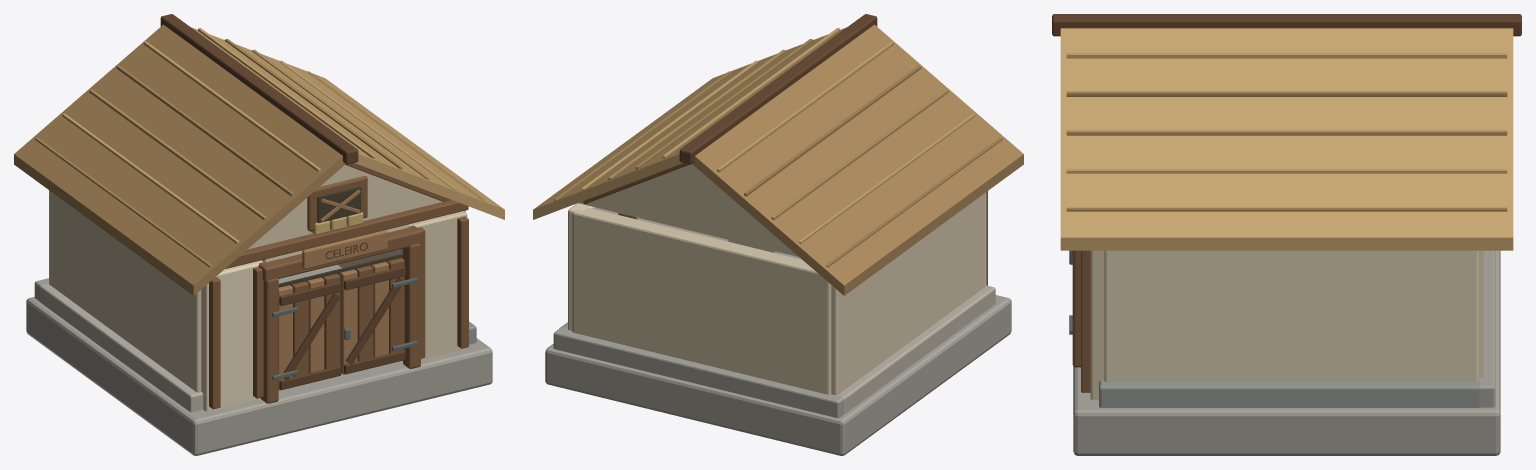
File: celeiro_medieval.glb
3 renders of one model, left to right at view 1: azimuth 30°, elevation 25°; view 2: azimuth 150°, elevation 25°; view 3: azimuth 270°, elevation 25°, orthographic. The views are drawn at different scales.
Parts seen in each view (by area): view 1: Celeiro | Palha do telhado 2, Celeiro | Reboco de cal envelhecido, Celeiro | Pedra da fundação 0, Celeiro | Vigas de carvalho, Celeiro | Palha do telhado 1, Celeiro | Madeira sombreada, Celeiro | Tábuas de carvalho, Celeiro | Reboco claro, Base lateral esquerda, Celeiro | Palha do telhado 0, Celeiro | Interior escuro, Celeiro | Ferro forjado (+1 smaller); view 2: Celeiro | Reboco de cal envelhecido, Celeiro | Palha do telhado 2, Celeiro | Pedra da fundação 0, Celeiro | Palha do telhado 1, Base lateral esquerda, Celeiro | Madeira sombreada, Celeiro | Palha do telhado 0, Celeiro | Reboco claro, Celeiro | Vigas de carvalho; view 3: Celeiro | Palha do telhado 1, Celeiro | Reboco claro, Celeiro | Pedra da fundação 0, Base lateral direita, Celeiro | Madeira sombreada, Celeiro | Palha do telhado 2, Celeiro | Palha do telhado 0, Celeiro | Reboco de cal envelhecido, Celeiro | Vigas de carvalho.
Boxes of the visible parts, x1,y1,x2,y2 form: Celeiro | Palha do telhado 2: (14,24,483,295); Celeiro | Reboco de cal envelhecido: (49,165,467,392); Celeiro | Pedra da fundação 0: (26,264,492,455); Celeiro | Vigas de carvalho: (209,163,468,409); Celeiro | Palha do telhado 1: (62,27,504,243); Celeiro | Madeira sombreada: (160,14,405,389); Celeiro | Tábuas de carvalho: (278,189,388,390); Celeiro | Reboco claro: (201,210,465,411); Base lateral esquerda: (39,283,203,412); Celeiro | Palha do telhado 0: (89,49,429,220); Celeiro | Interior escuro: (278,186,402,365); Celeiro | Ferro forjado: (272,277,417,380); Celeiro | Reboco de cal envelhecido: (572,164,984,395); Celeiro | Palha do telhado 2: (554,24,1023,295); Celeiro | Pedra da fundação 0: (545,252,1011,455); Celeiro | Palha do telhado 1: (533,27,975,243); Base lateral esquerda: (837,285,995,414); Celeiro | Madeira sombreada: (618,14,877,219); Celeiro | Palha do telhado 0: (608,49,948,220); Celeiro | Reboco claro: (568,192,986,330); Celeiro | Vigas de carvalho: (583,163,987,285); Celeiro | Palha do telhado 1: (1060,28,1513,250); Celeiro | Reboco claro: (1104,250,1479,381); Celeiro | Pedra da fundação 0: (1073,250,1500,455); Base lateral direita: (1099,379,1481,407); Celeiro | Madeira sombreada: (1052,14,1521,36); Celeiro | Palha do telhado 2: (1066,91,1507,211); Celeiro | Palha do telhado 0: (1066,130,1507,135); Celeiro | Reboco de cal envelhecido: (1090,250,1483,400); Celeiro | Vigas de carvalho: (1072,250,1090,392).
Size of the model in its own units: 3.76 by 3.2 by 3.9.
